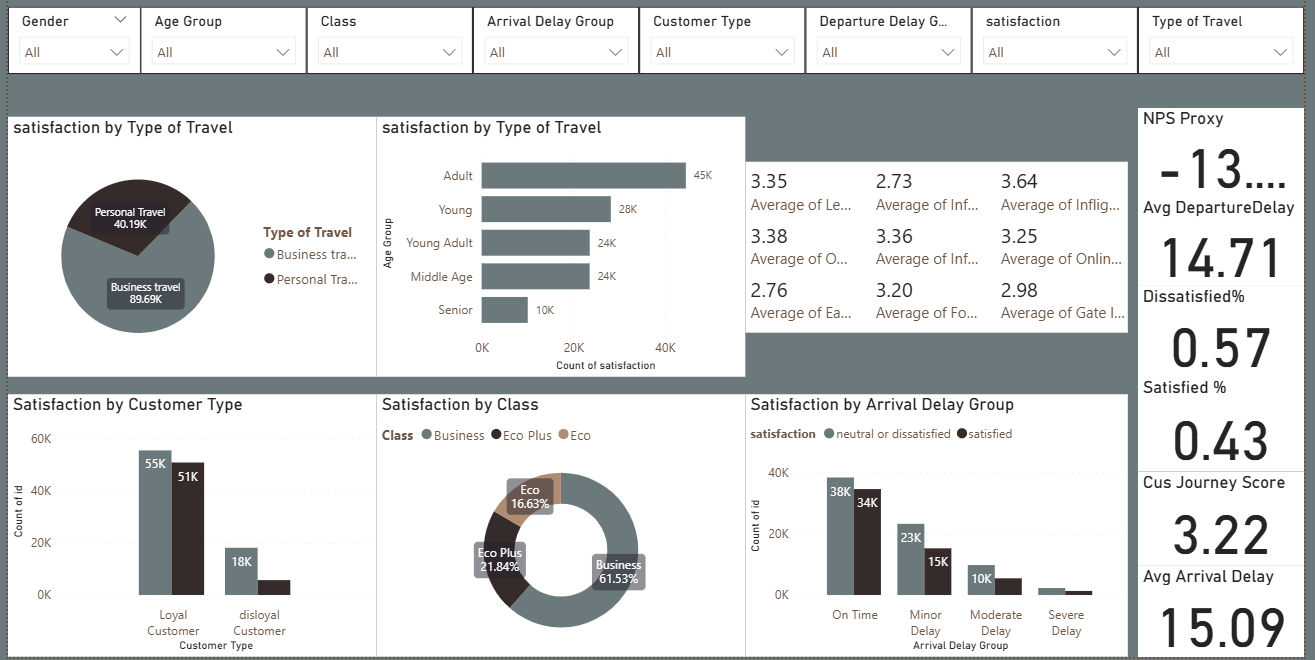

The dashboard page shown, as its layout file describes it:
{"tool":"powerbi","page":{"name":"Page 1","canvas":[1280,720],"ordinal":0},"visuals":[{"type":"slicer","fields":{"Values":["Query1.Gender"]},"box":[0,111.1,130.9,66.7],"z":0,"group":"g2"},{"type":"card","title":"Satisfied %","fields":{"Values":["Query1.satisfied %"]},"box":[1116,443.2,164.2,93.8],"z":0},{"type":"slicer","fields":{"Values":["Query1.Age Group"]},"box":[130.9,111.1,164.2,66.7],"z":1000,"group":"g2"},{"type":"card","title":"Dissatisfied%","fields":{"Values":["Query1.dissatisfies/neutal %"]},"box":[1116,353.1,164.2,90.1],"z":1000},{"type":"slicer","fields":{"Values":["Query1.Class"]},"box":[295.1,111.1,164.2,66.7],"z":2000,"group":"g2"},{"type":"card","title":"Cus Journey Score","fields":{"Values":["Query1.Customer Journey Score"]},"box":[1116,537,164.2,92.6],"z":2000},{"type":"slicer","fields":{"Values":["Query1.Arrival Delay Group"]},"box":[459.3,111.1,164.2,66.7],"z":3000,"group":"g2"},{"type":"card","title":"Avg Arrival Delay","fields":{"Values":["Query1.Avg Arrival Delay"]},"box":[1116,629.6,164.2,90.1],"z":3000},{"type":"slicer","fields":{"Values":["Query1.Customer Type"]},"box":[623.5,111.1,164.2,66.7],"z":4000,"group":"g2"},{"type":"card","title":"NPS Proxy","fields":{"Values":["Query1.NPS Proxy"]},"box":[1116,177.8,164.2,87.7],"z":4000},{"type":"slicer","fields":{"Values":["Query1.Departure Delay Group"]},"box":[787.7,111.1,164.2,66.7],"z":5000,"group":"g2"},{"type":"clusteredColumnChart","title":"Satisfaction by Customer Type","fields":{"Category":["Query1.Customer Type"],"Series":["Query1.satisfaction"],"Y":["CountNonNull(Query1.id)"]},"box":[0,460.5,364.2,259.3],"z":5000},{"type":"slicer","fields":{"Values":["Query1.satisfaction"]},"box":[951.9,111.1,164.2,66.7],"z":6000,"group":"g2"},{"type":"donutChart","title":"Satisfaction by Class","fields":{"Y":["Query1.satisfied %"],"Category":["Query1.Class"]},"box":[364.2,460.5,364.2,259.3],"z":6000},{"type":"slicer","fields":{"Values":["Query1.Type of Travel"]},"box":[1116,111.1,164.2,66.7],"z":7000,"group":"g2"},{"type":"clusteredColumnChart","title":"Satisfaction by Arrival Delay Group","fields":{"Series":["Query1.satisfaction"],"Y":["CountNonNull(Query1.id)"],"Category":["Query1.Arrival Delay Group"]},"box":[728.4,460.5,377.8,259.3],"z":7000},{"type":"pieChart","title":" satisfaction by Type of Travel","fields":{"Category":["Query1.Type of Travel"],"Y":["CountNonNull(Query1.satisfaction)"]},"box":[1.2,203.7,364.2,256.8],"z":8000},{"type":"card","title":"Avg DepartureDelay","fields":{"Values":["Avg(Query1.Departure Delay in Minutes)"]},"box":[1116,265.4,164.2,87.7],"z":9000},{"type":"clusteredBarChart","title":" satisfaction by Type of Travel","fields":{"Category":["Query1.Age Group"],"Y":["CountNonNull(Query1.satisfaction)"]},"box":[364.2,203.7,364.2,256.8],"z":10000},{"type":"multiRowCard","fields":{"Values":["Avg(Query1.Leg room service)","Avg(Query1.Inflight wifi service)","Avg(Query1.Inflight service)","Avg(Query1.On-board service)","Avg(Query1.Inflight entertainment)","Avg(Query1.Online boarding)","Avg(Query1.Ease of Online booking)","Avg(Query1.Food and drink)","Avg(Query1.Gate location)"]},"box":[728.4,239.5,377.8,185.2],"z":11000},{"type":"group","id":"g1","title":"Group 1","box":[0,111.1,1280.2,66.7],"z":16005},{"type":"group","id":"g2","title":"Group 2","box":[0,111.1,1280.2,66.7],"z":16006,"group":"g1"}]}

Visuals, with their boxes on the page's 1280x720 design canvas (x1, y1, x2, y2). These are canvas units, not pixel positions in the 1315x660 screenshot, which may show the page scaled, cropped or inside an application window:
slicer - Query1.Gender: 0 111 131 178
"Satisfied %" card: 1116 443 1280 537
slicer - Query1.Age Group: 131 111 295 178
"Dissatisfied%" card: 1116 353 1280 443
slicer - Query1.Class: 295 111 459 178
"Cus Journey Score" card: 1116 537 1280 630
slicer - Query1.Arrival Delay Group: 459 111 624 178
"Avg Arrival Delay" card: 1116 630 1280 720
slicer - Query1.Customer Type: 624 111 788 178
"NPS Proxy" card: 1116 178 1280 266
slicer - Query1.Departure Delay Group: 788 111 952 178
"Satisfaction by Customer Type" clusteredColumnChart: 0 460 364 720
slicer - Query1.satisfaction: 952 111 1116 178
"Satisfaction by Class" donutChart: 364 460 728 720
slicer - Query1.Type of Travel: 1116 111 1280 178
"Satisfaction by Arrival Delay Group" clusteredColumnChart: 728 460 1106 720
" satisfaction by Type of Travel" pieChart: 1 204 365 460
"Avg DepartureDelay" card: 1116 265 1280 353
" satisfaction by Type of Travel" clusteredBarChart: 364 204 728 460
multiRowCard - Avg(Query1.Leg room service) x Avg(Query1.Inflight wifi service): 728 240 1106 425
"Group 1" group: 0 111 1280 178
"Group 2" group: 0 111 1280 178
